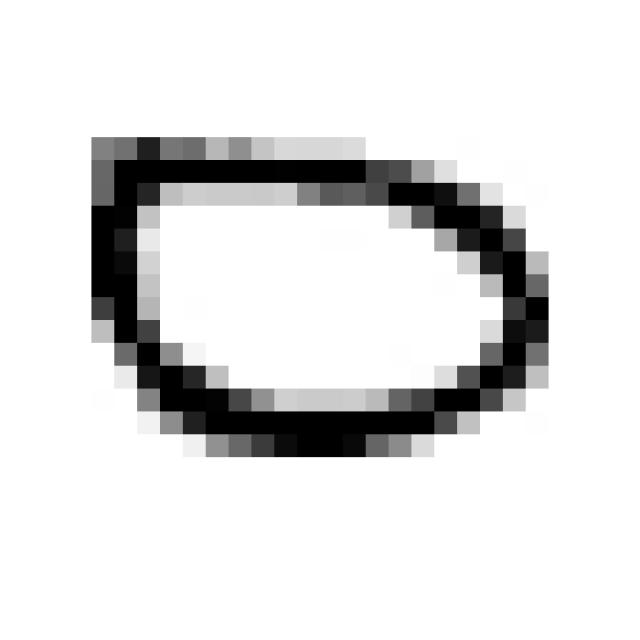5 -five-: (66, 114, 568, 478)
